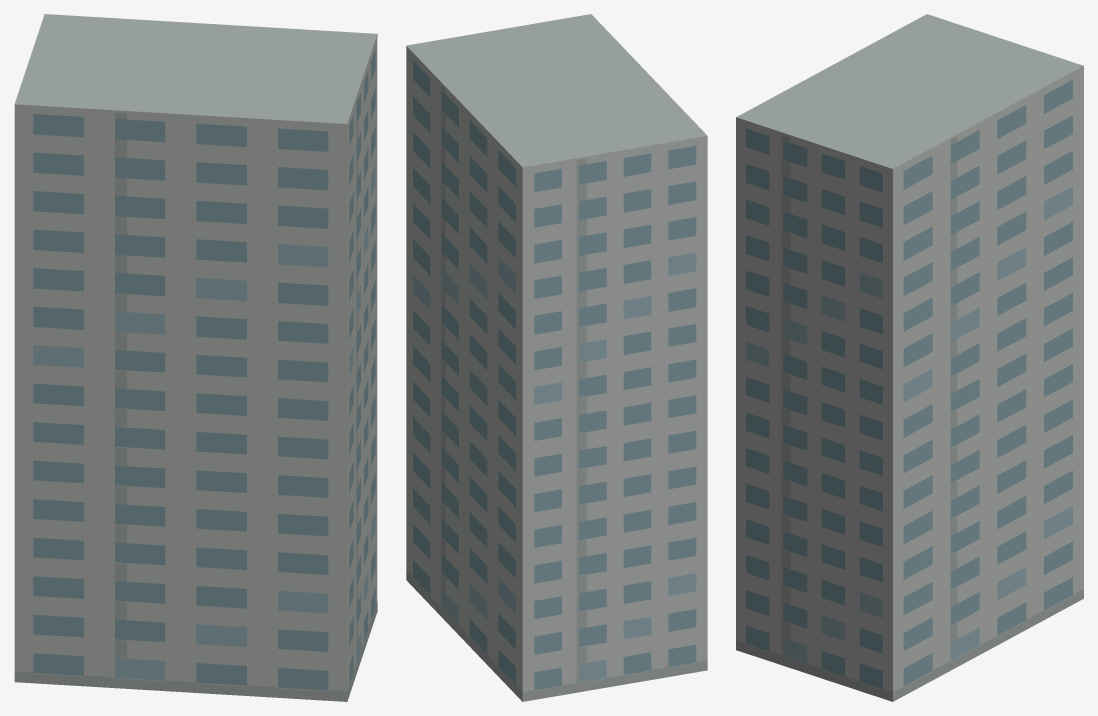
File: residential-51a522f0-a404-4851-b3d0-e8763d64b6b3.glb
3 renders of one model, left to right at view 1: azimuth 30°, elevation 25°; view 2: azimuth 150°, elevation 25°; view 3: azimuth 270°, elevation 25°, orthographic. The views are drawn at different scales.
Parts seen in each view (by area): view 1: residential-51a522f0-a404-4851-b3d0-e8763d64b6b3.tmp; view 2: residential-51a522f0-a404-4851-b3d0-e8763d64b6b3.tmp; view 3: residential-51a522f0-a404-4851-b3d0-e8763d64b6b3.tmp.
Boxes of the visible parts, bbox=[...] form: residential-51a522f0-a404-4851-b3d0-e8763d64b6b3.tmp: bbox=[14, 14, 377, 701]; residential-51a522f0-a404-4851-b3d0-e8763d64b6b3.tmp: bbox=[406, 14, 707, 701]; residential-51a522f0-a404-4851-b3d0-e8763d64b6b3.tmp: bbox=[736, 14, 1083, 701].
Size of the model in its own units: 39.31 by 63 by 37.26.
